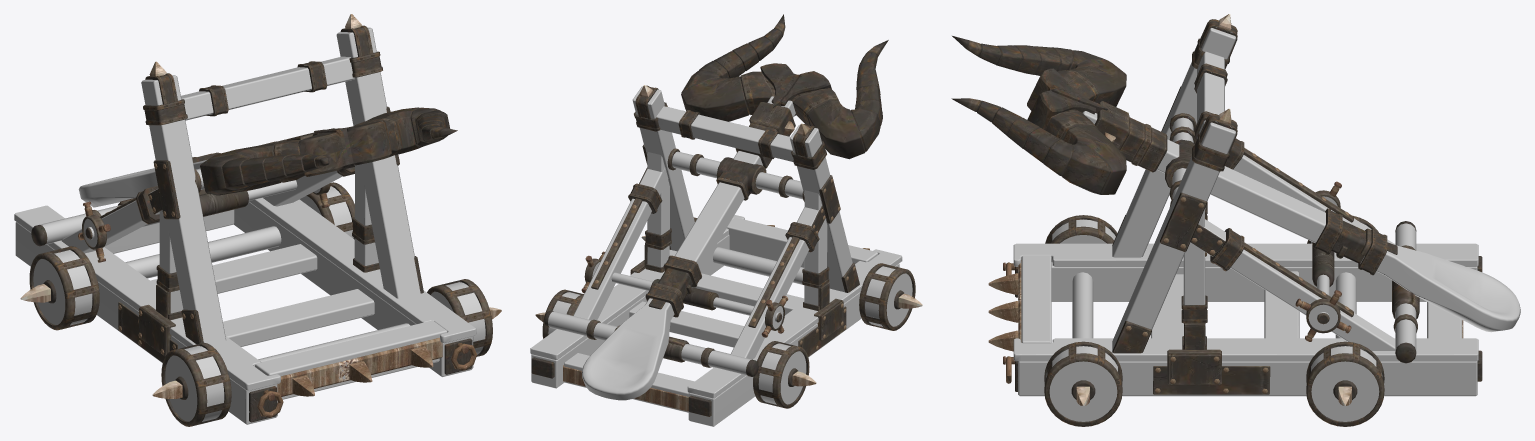
The picture shows the model from 3 angles, left to right: view 1: azimuth 30°, elevation 25°; view 2: azimuth 150°, elevation 25°; view 3: azimuth 270°, elevation 25°; orthographic projection. The views are drawn at different scales.
Parts seen in each view (by area): view 1: SM_SiegeWeaponary_Catapult_01_V1_LOD0; view 2: SM_SiegeWeaponary_Catapult_01_V1_LOD0; view 3: SM_SiegeWeaponary_Catapult_01_V1_LOD0.
Part boxes in pixels (box(x1,y1,x2,y2)): SM_SiegeWeaponary_Catapult_01_V1_LOD0: box(14, 14, 501, 426); SM_SiegeWeaponary_Catapult_01_V1_LOD0: box(530, 14, 922, 426); SM_SiegeWeaponary_Catapult_01_V1_LOD0: box(951, 14, 1520, 426).
Bounding box in the file's own units: 6.06 × 4.94 × 8.65.
